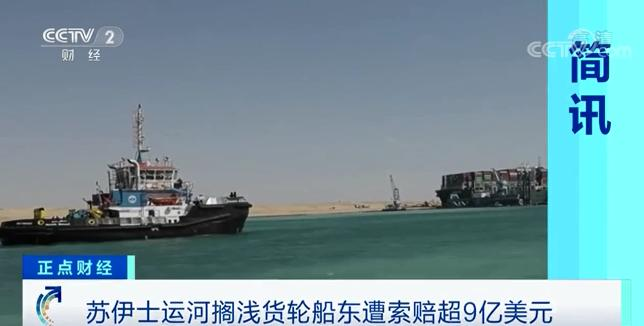otherboat: (4, 105, 256, 244)
